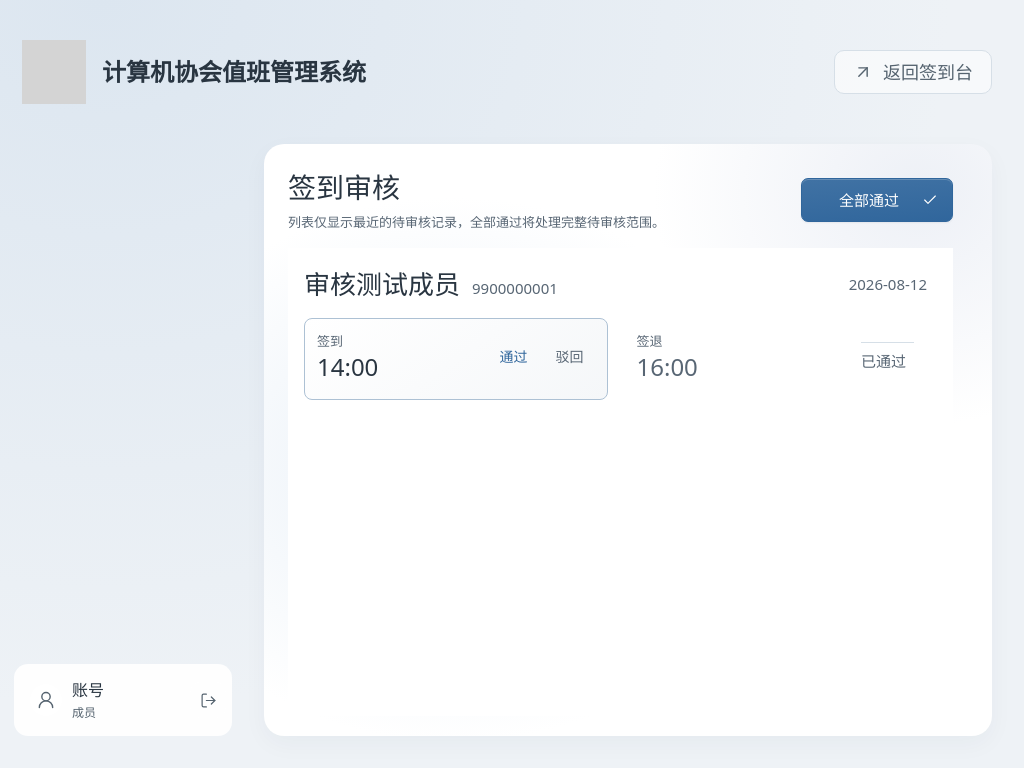
ReviewsPage individual review and retained workspace behavior › focuses retry and locks old rows when review succeeds but queue refresh fails
This screenshot has width=1024, height=768.
Click the button with class "review-state-action__approve" at (516, 357), box [490, 338, 540, 376]
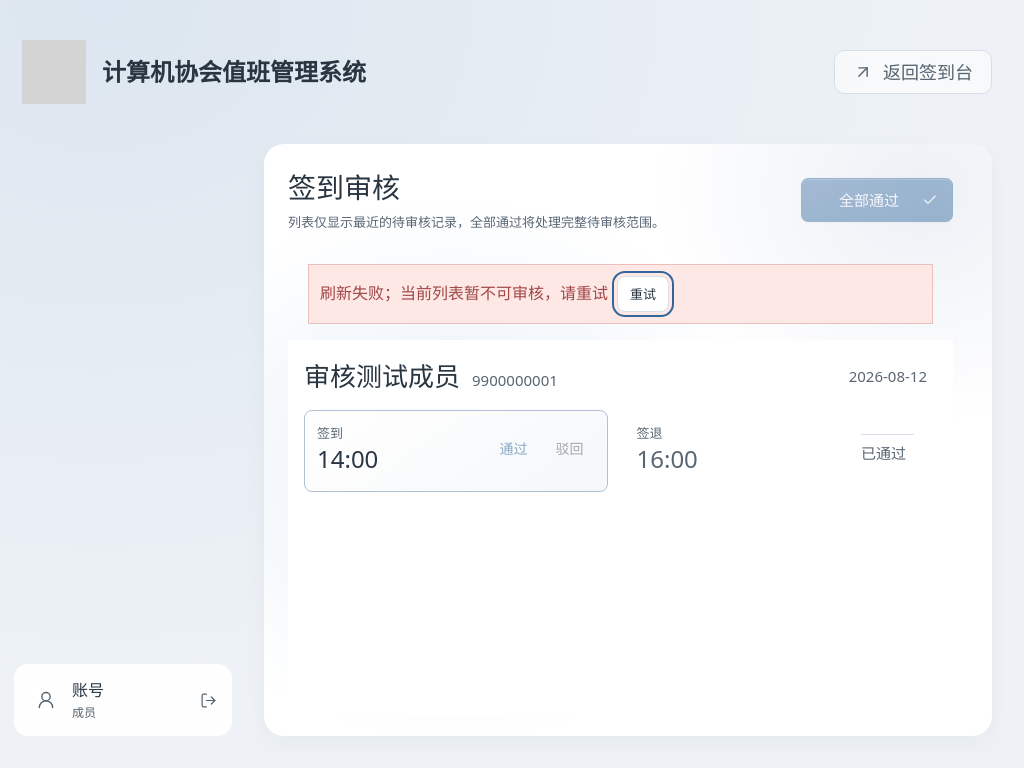
Expected: the button with class "review-state-action__approve" is disabled, [490, 430, 540, 468]
